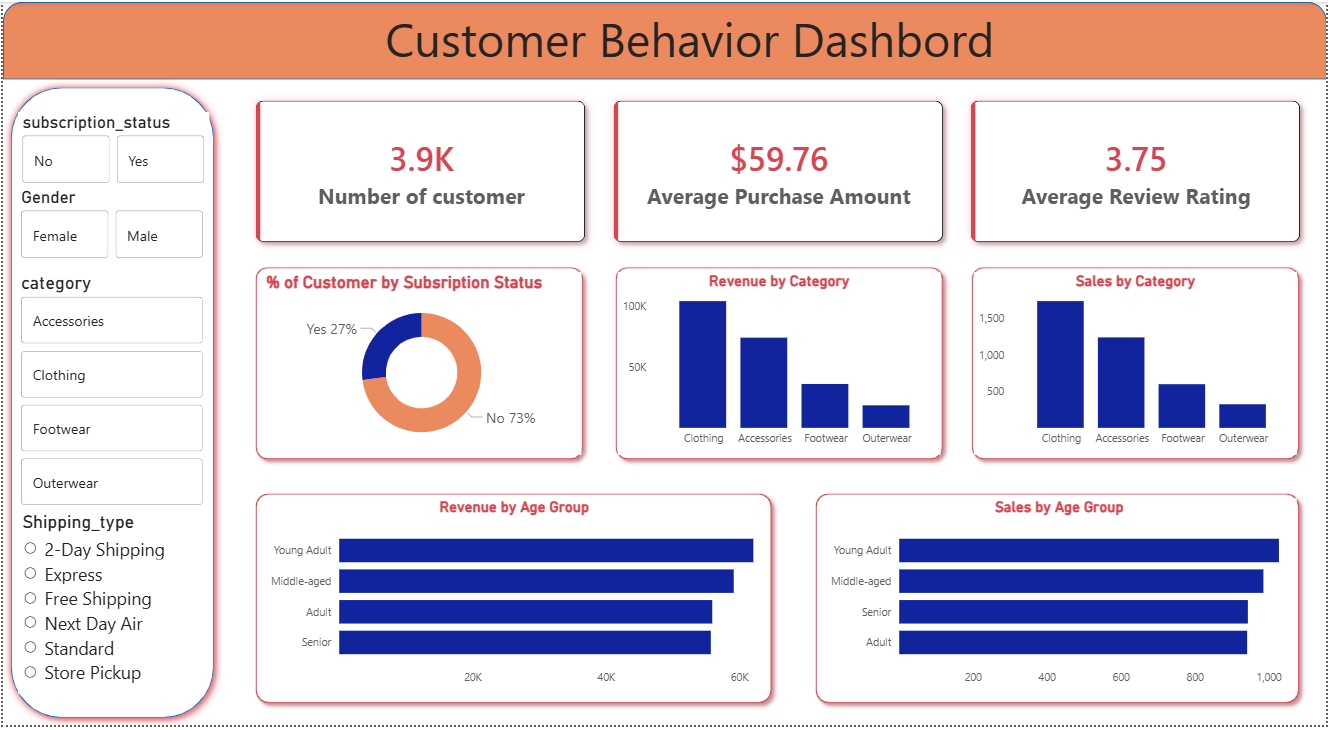

What the dashboard file says about the page in this screenshot:
{"tool":"powerbi","page":{"name":"Page 1","canvas":[1500,820],"ordinal":0},"visuals":[{"type":"cardVisual","fields":{"Data":["public customer.Number of customer","public customer.Average Purchase Amount","public customer.Average Review Rating"]},"box":[257.8,87.8,1242.5,208.3],"z":0},{"type":"shape","box":[0,0,1500.3,87.8],"z":1000},{"type":"textbox","box":[56.7,0,1443.6,87.8],"z":2000},{"type":"shape","box":[277.7,291.8,388.2,235.2],"z":3000},{"type":"donutChart","title":"% of Customer by Subsription Status","fields":{"Category":["public customer.subscription_status"],"Y":["CountNonNull(public customer.customer_id)"]},"box":[293.3,306,362.7,206.8],"z":4000},{"type":"shape","box":[685.7,291.8,388.2,235.2],"z":5000},{"type":"shape","box":[1089.5,291.8,388.2,235.2],"z":6000},{"type":"clusteredColumnChart","title":"Revenue by Category","fields":{"Y":["Sum(public customer.purchase_amount)"],"Category":["public customer.category"]},"box":[697,306,365.5,206.8],"z":7000},{"type":"clusteredColumnChart","title":"Sales by Category","fields":{"Category":["public customer.category"],"Y":["CountNonNull(public customer.customer_id)"]},"box":[1100.8,306,365.5,206.8],"z":8000},{"type":"shape","box":[0,87.8,247.9,732.5],"z":9000},{"type":"advancedSlicerVisual","fields":{"Values":["public customer.subscription_status"]},"box":[17,124.7,216.8,86.4],"z":10000},{"type":"advancedSlicerVisual","fields":{"Values":["public customer.gender"]},"box":[15.6,209.7,216.8,86.4],"z":11000},{"type":"advancedSlicerVisual","fields":{"Values":["public customer.category"]},"box":[15.6,306,216.8,270.6],"z":11001},{"type":"listSlicer","fields":{"Values":["public customer.shipping_type"]},"box":[17,576.6,205.4,206.8],"z":11002},{"type":"shape","box":[277.7,548.3,602.1,255],"z":11004},{"type":"clusteredBarChart","title":"Revenue by Age Group","fields":{"Y":["Sum(public customer.purchase_amount)"],"Category":["public customer.age_group"]},"box":[293.3,562.4,572.4,221],"z":11005},{"type":"shape","box":[912.4,548.3,565.3,255],"z":11006},{"type":"clusteredBarChart","title":"Sales by Age Group","fields":{"Category":["public customer.age_group"],"Y":["CountNonNull(public customer.customer_id)"]},"box":[928,562.4,538.4,221],"z":11007}]}

Visuals, with their boxes in screenshot pixels (x1, y1, x2, y2), scaled from the page's 1500x820 canvas onto the 1328x730 screenshot:
cardVisual - public customer.Number of customer x public customer.Average Purchase Amount: x1=228 y1=78 x2=1327 y2=264
shape: x1=0 y1=0 x2=1327 y2=78
textbox: x1=50 y1=0 x2=1327 y2=78
shape: x1=246 y1=260 x2=590 y2=469
"% of Customer by Subsription Status" donutChart: x1=260 y1=272 x2=581 y2=457
shape: x1=607 y1=260 x2=951 y2=469
shape: x1=965 y1=260 x2=1308 y2=469
"Revenue by Category" clusteredColumnChart: x1=617 y1=272 x2=941 y2=457
"Sales by Category" clusteredColumnChart: x1=975 y1=272 x2=1298 y2=457
shape: x1=0 y1=78 x2=219 y2=729
advancedSlicerVisual - public customer.subscription_status: x1=15 y1=111 x2=207 y2=188
advancedSlicerVisual - public customer.gender: x1=14 y1=187 x2=206 y2=264
advancedSlicerVisual - public customer.category: x1=14 y1=272 x2=206 y2=513
listSlicer - public customer.shipping_type: x1=15 y1=513 x2=197 y2=697
shape: x1=246 y1=488 x2=779 y2=715
"Revenue by Age Group" clusteredBarChart: x1=260 y1=501 x2=766 y2=697
shape: x1=808 y1=488 x2=1308 y2=715
"Sales by Age Group" clusteredBarChart: x1=822 y1=501 x2=1298 y2=697
